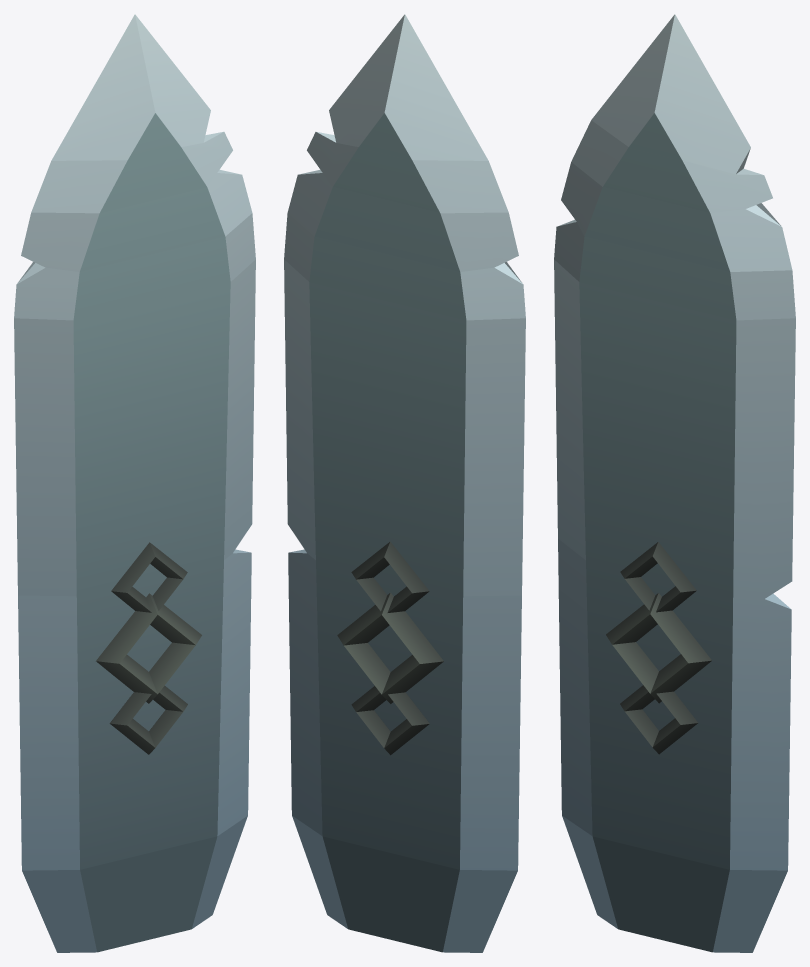
Rendered from blade_003.fbx.
3 renders of one model, left to right at view 1: azimuth 30°, elevation 25°; view 2: azimuth 150°, elevation 25°; view 3: azimuth 330°, elevation 25°, orthographic.
Parts seen in each view (by area): view 1: blade.003; view 2: blade.003; view 3: blade.003.
Part boxes in pixels (bbox=[...]): blade.003: bbox=[14, 14, 255, 952]; blade.003: bbox=[284, 14, 525, 952]; blade.003: bbox=[554, 14, 795, 952].
Bounding box in the file's own units: 27.03 × 98.19 × 9.27.
